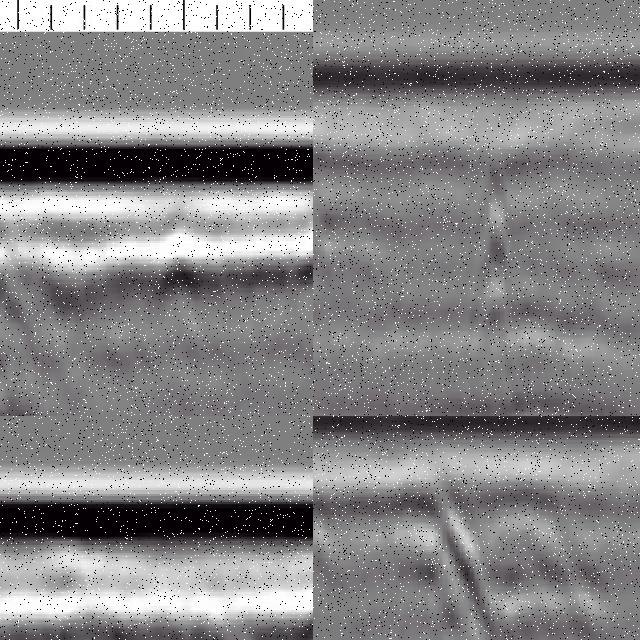crack: (462, 122, 516, 417), (405, 449, 464, 640)
loose: (469, 480, 606, 640), (1, 250, 96, 417)
